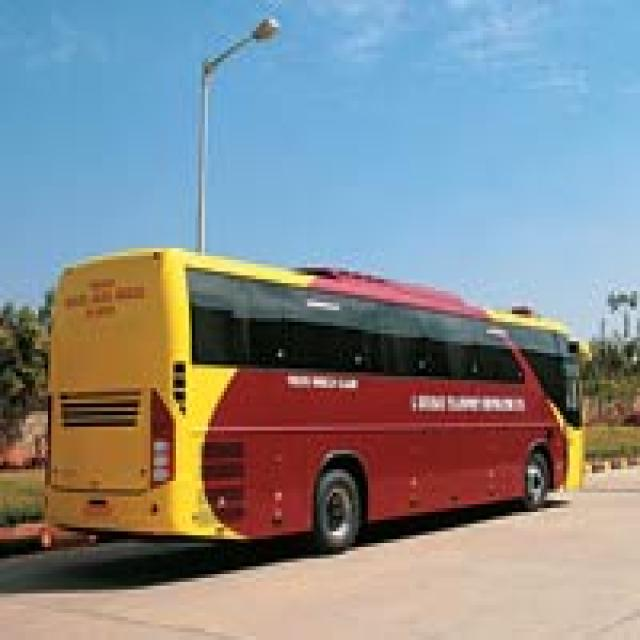bus: (47, 248, 584, 549)
